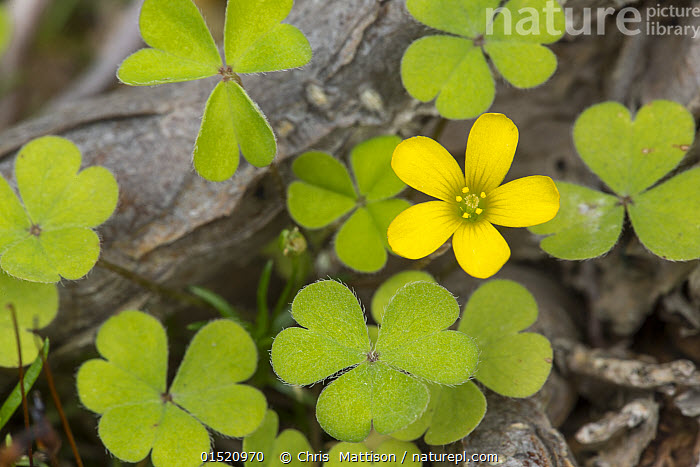oxalis: (118, 9, 326, 187), (275, 259, 480, 437), (73, 304, 261, 467), (563, 96, 695, 293), (389, 2, 552, 116), (8, 137, 110, 308), (289, 131, 403, 267)
